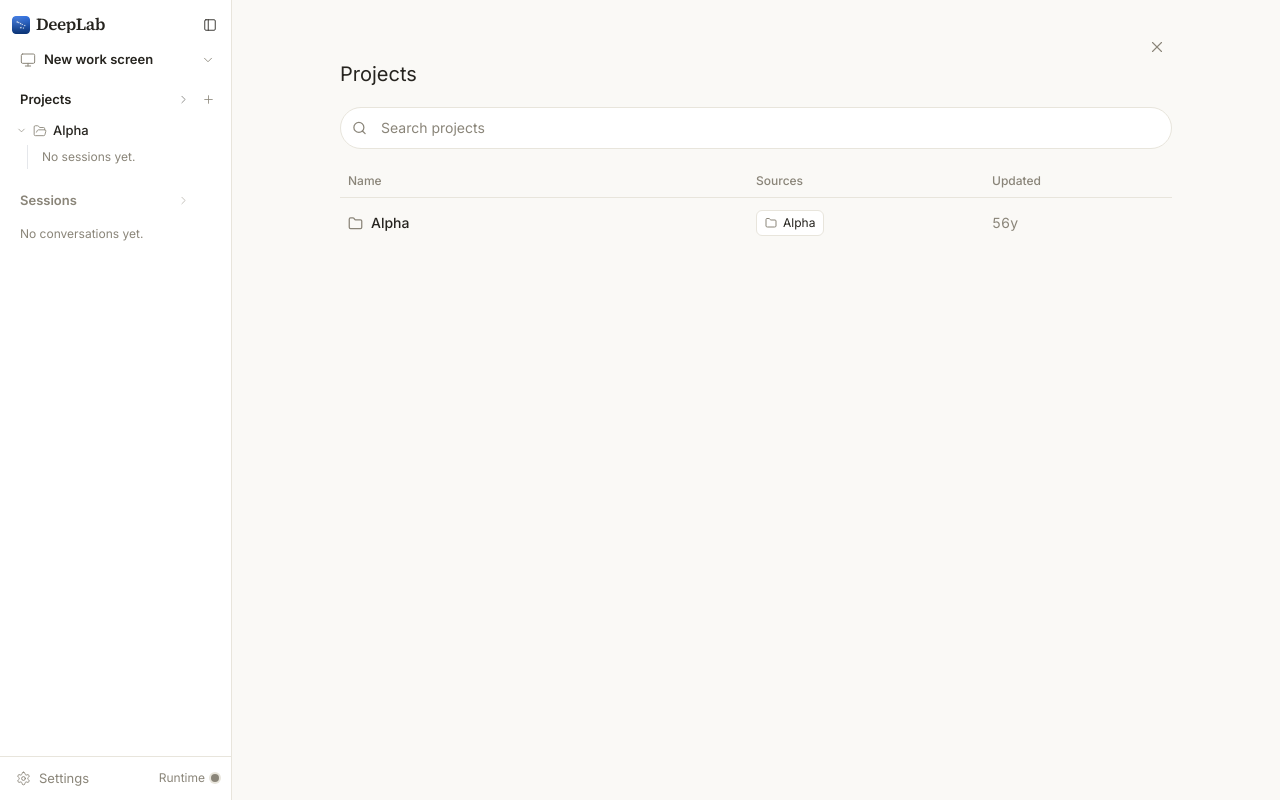
Test case: ProjectsPage › shows an empty state when the search matches nothing
In the field with placeholder "Search projects": (756,128) [340,107,1172,149], type "zzz"
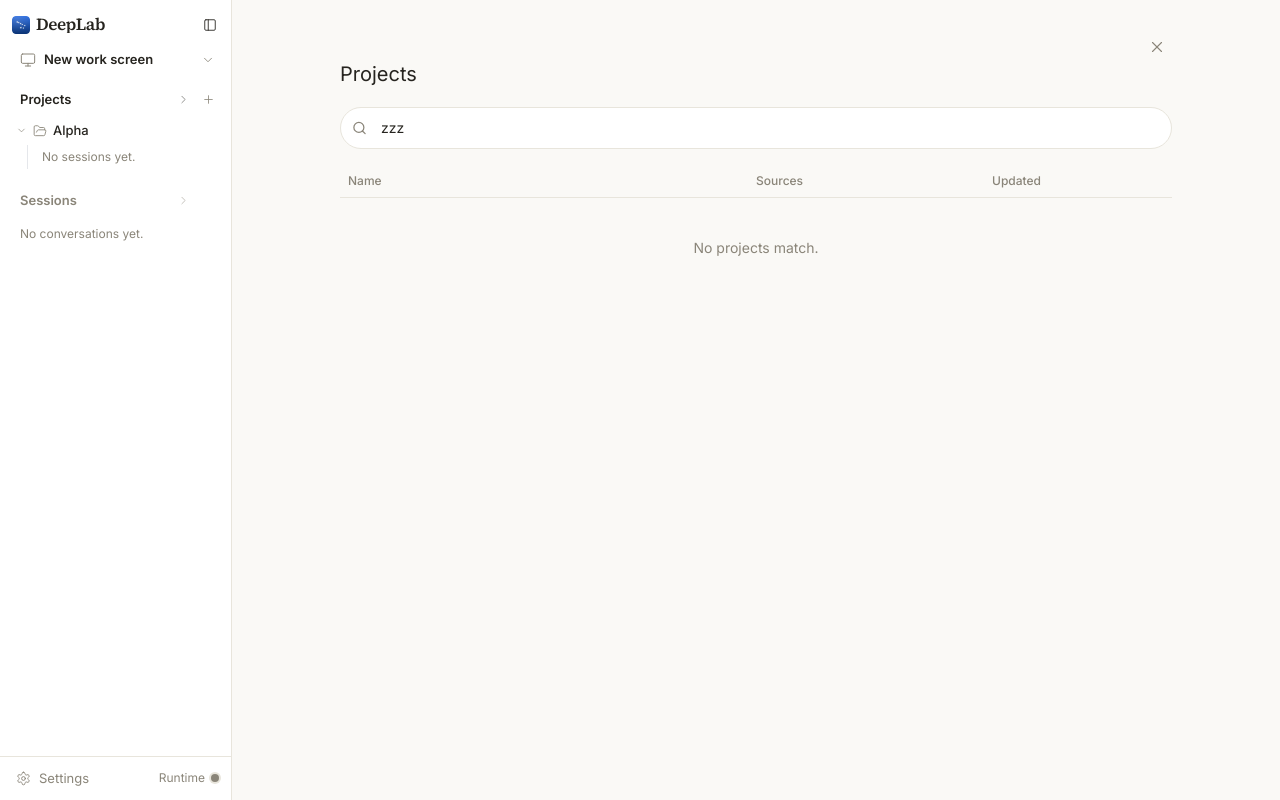
Check: the text "No projects match." is shown, box [694,239,819,256]
